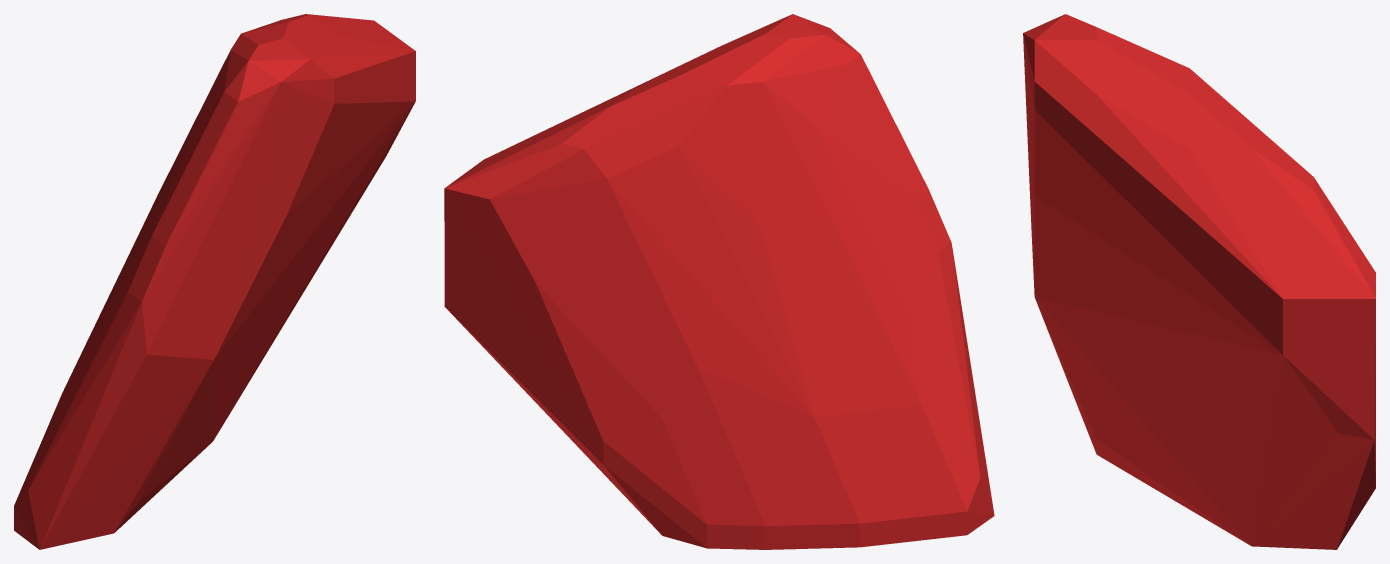
The model's file is mouth_cup013.obj.
3 renders of one model, left to right at view 1: azimuth 30°, elevation 25°; view 2: azimuth 150°, elevation 25°; view 3: azimuth 270°, elevation 25°, orthographic. The views are drawn at different scales.
Visible parts, largest first — view 1: mouth_cup013_mouth_cup013.001; view 2: mouth_cup013_mouth_cup013.001; view 3: mouth_cup013_mouth_cup013.001.
Part boxes in pixels (x1,y1,x2,y2): mouth_cup013_mouth_cup013.001: [14, 14, 415, 549]; mouth_cup013_mouth_cup013.001: [444, 14, 994, 549]; mouth_cup013_mouth_cup013.001: [1023, 14, 1375, 549].
Size of the model in its own units: 0.1801 by 0.1706 by 0.1074.
